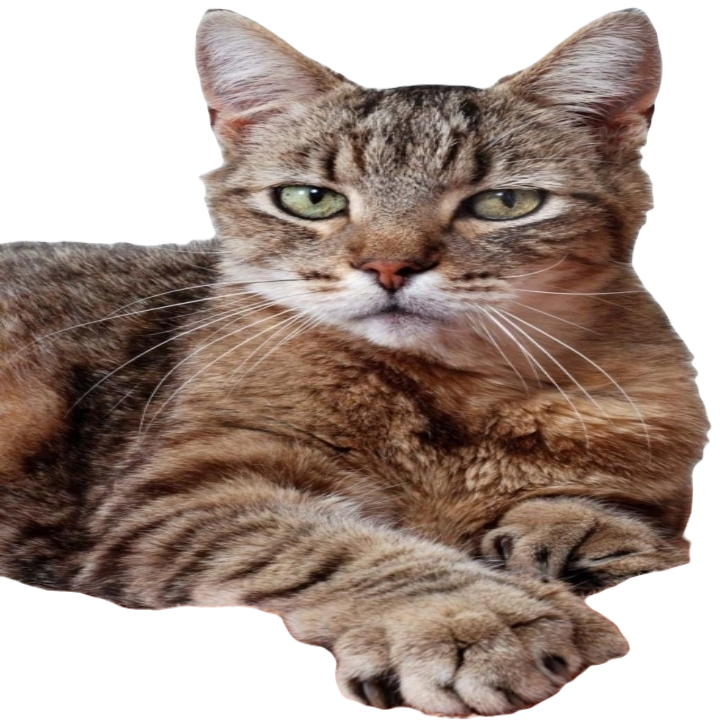Cat: (0, 4, 710, 719)
